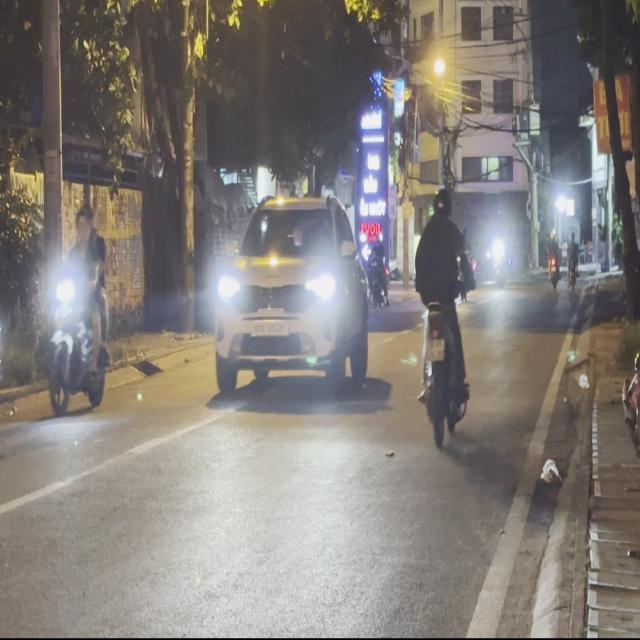helmet: (74, 207, 95, 244), (432, 184, 452, 217)
licenseplate: (42, 198, 115, 418), (411, 181, 472, 444)
nohelmet: (425, 338, 444, 359)
